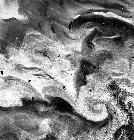CE: (85, 93, 113, 122)
